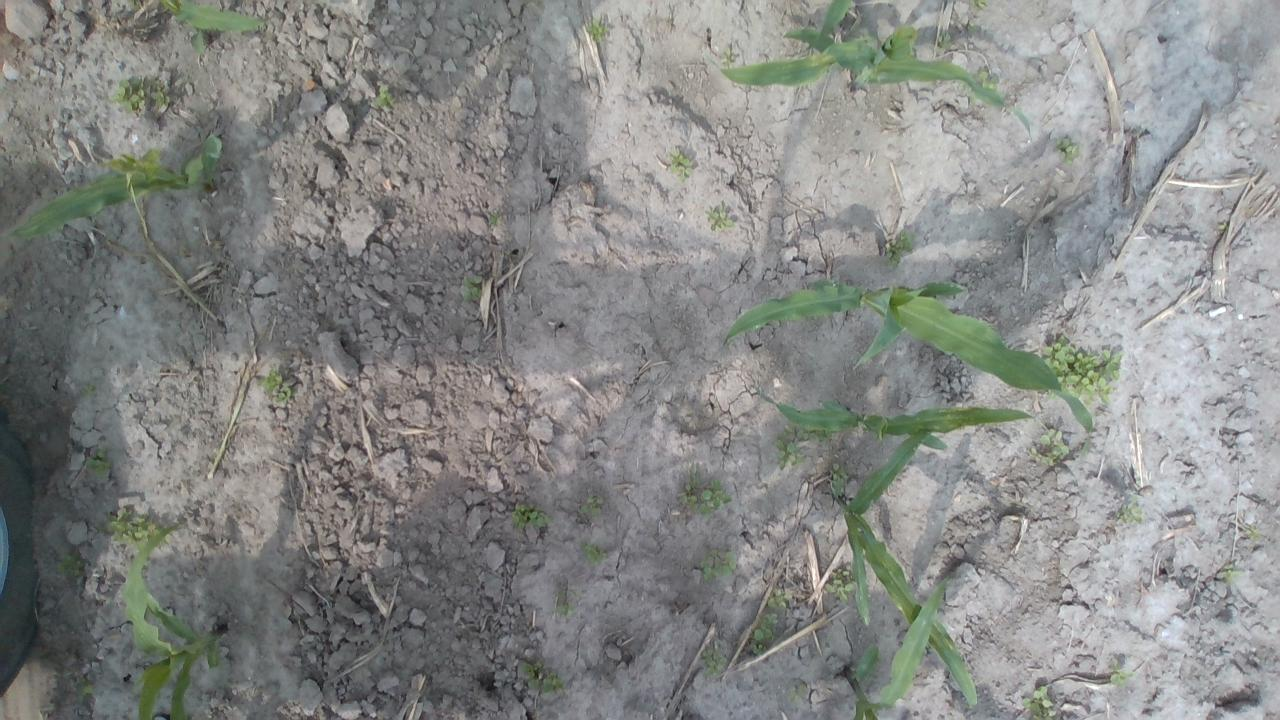Maize: (723, 281, 1099, 450), (716, 0, 1034, 147), (838, 430, 985, 708), (3, 133, 223, 246), (121, 519, 231, 720), (750, 385, 1038, 451), (851, 578, 953, 720), (160, 1, 276, 56)
Weeds: (1046, 336, 1124, 399), (748, 590, 789, 654), (776, 427, 834, 468), (110, 76, 168, 116), (104, 512, 155, 548), (681, 476, 723, 513), (1034, 428, 1075, 463), (1022, 684, 1060, 718), (521, 671, 562, 697), (883, 230, 911, 268), (702, 549, 738, 578), (510, 502, 546, 528), (266, 367, 290, 400), (667, 154, 696, 180), (711, 206, 738, 231), (577, 495, 603, 519), (1118, 503, 1142, 527), (460, 275, 484, 299), (829, 578, 851, 604), (705, 650, 722, 681), (58, 554, 84, 574), (89, 456, 112, 476), (376, 87, 394, 110), (1220, 567, 1244, 584), (77, 682, 96, 700), (1064, 140, 1078, 164), (592, 23, 612, 38), (940, 32, 954, 49), (584, 546, 598, 560), (1112, 672, 1126, 686), (489, 215, 499, 224)
